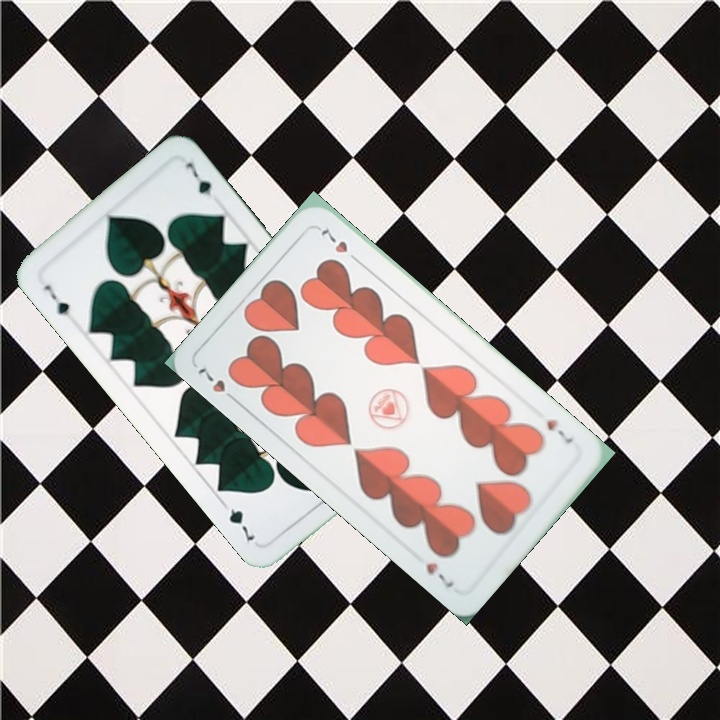G7: (39, 281, 73, 318)
H7: (194, 363, 241, 406), (542, 415, 576, 447)
